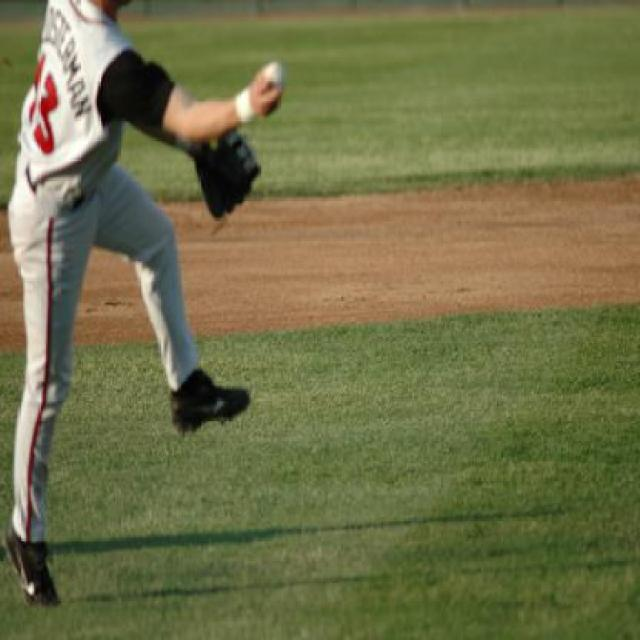obstacle: (12, 0, 248, 580)
